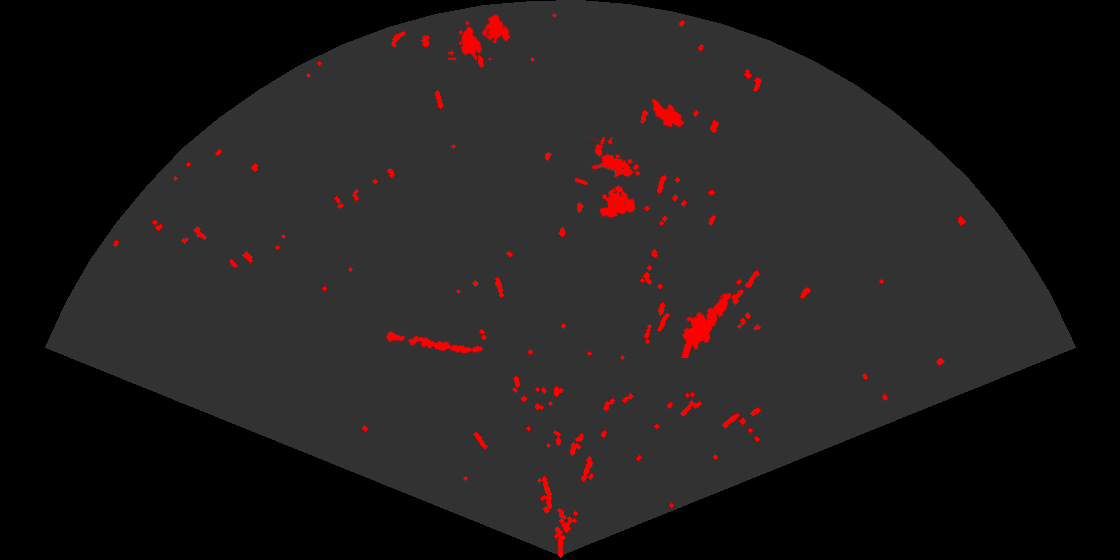AUV: (650, 97, 686, 129)
cage: (575, 137, 642, 219), (448, 12, 513, 60)
chain: (384, 330, 485, 355)
frogman: (680, 291, 733, 358)
